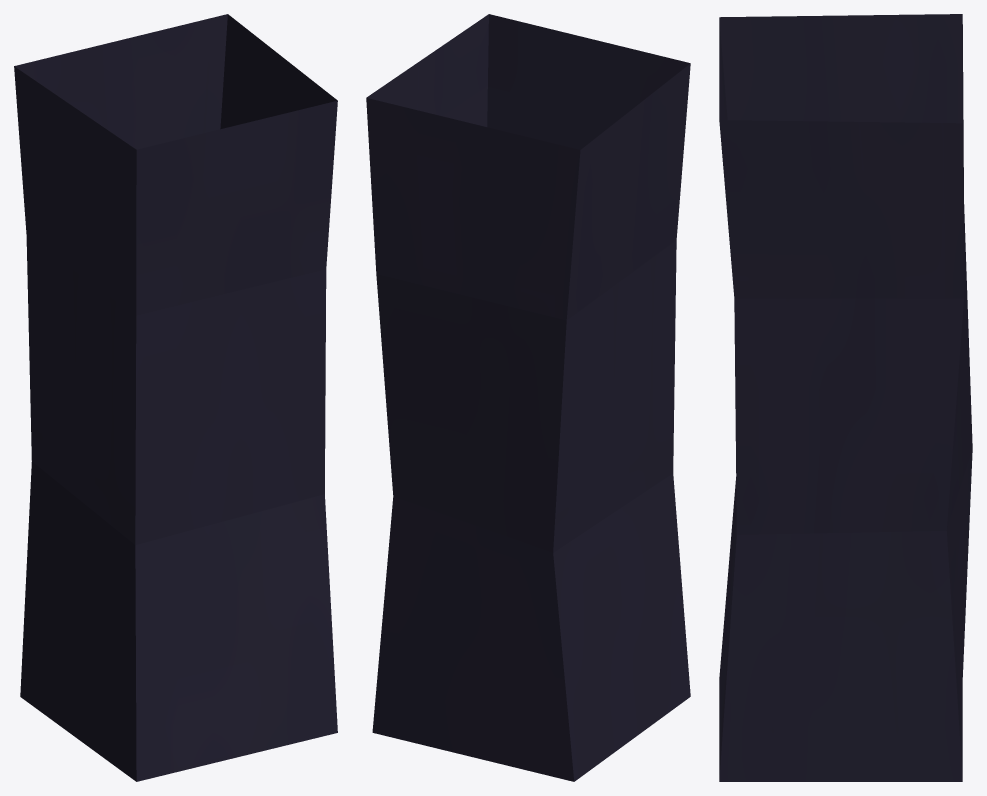
File: ml_wonky_pillar.glb
3 views of the same model, side by side, from view 1: azimuth 30°, elevation 25°; view 2: azimuth 150°, elevation 25°; view 3: azimuth 270°, elevation 25° (orthographic). The views are drawn at different scales.
Visible parts, largest first — view 1: Cube.001; view 2: Cube.001; view 3: Cube.001.
Boxes of the visible parts, box(x1,y1,x2,y2) form: Cube.001: box(14, 14, 337, 781); Cube.001: box(366, 14, 690, 781); Cube.001: box(719, 14, 972, 781).
Bounding box in the file's own units: 1.06 × 3 × 1.04.
1 material, 1 textured.
